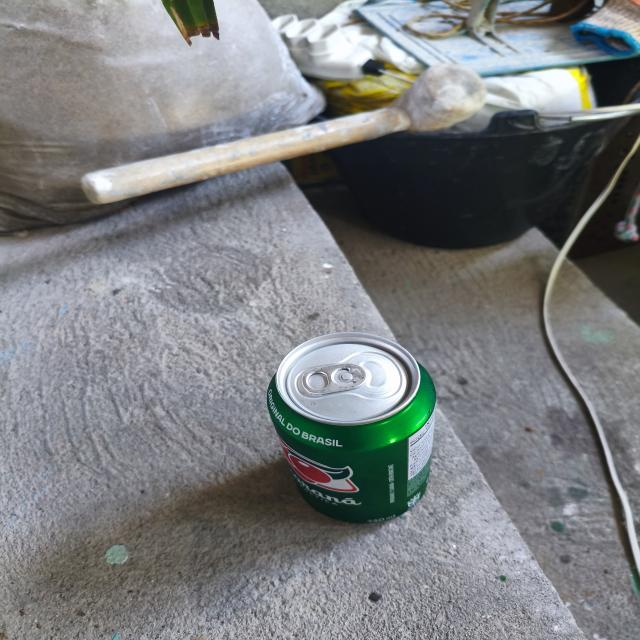Guarana: (246, 316, 455, 534)
